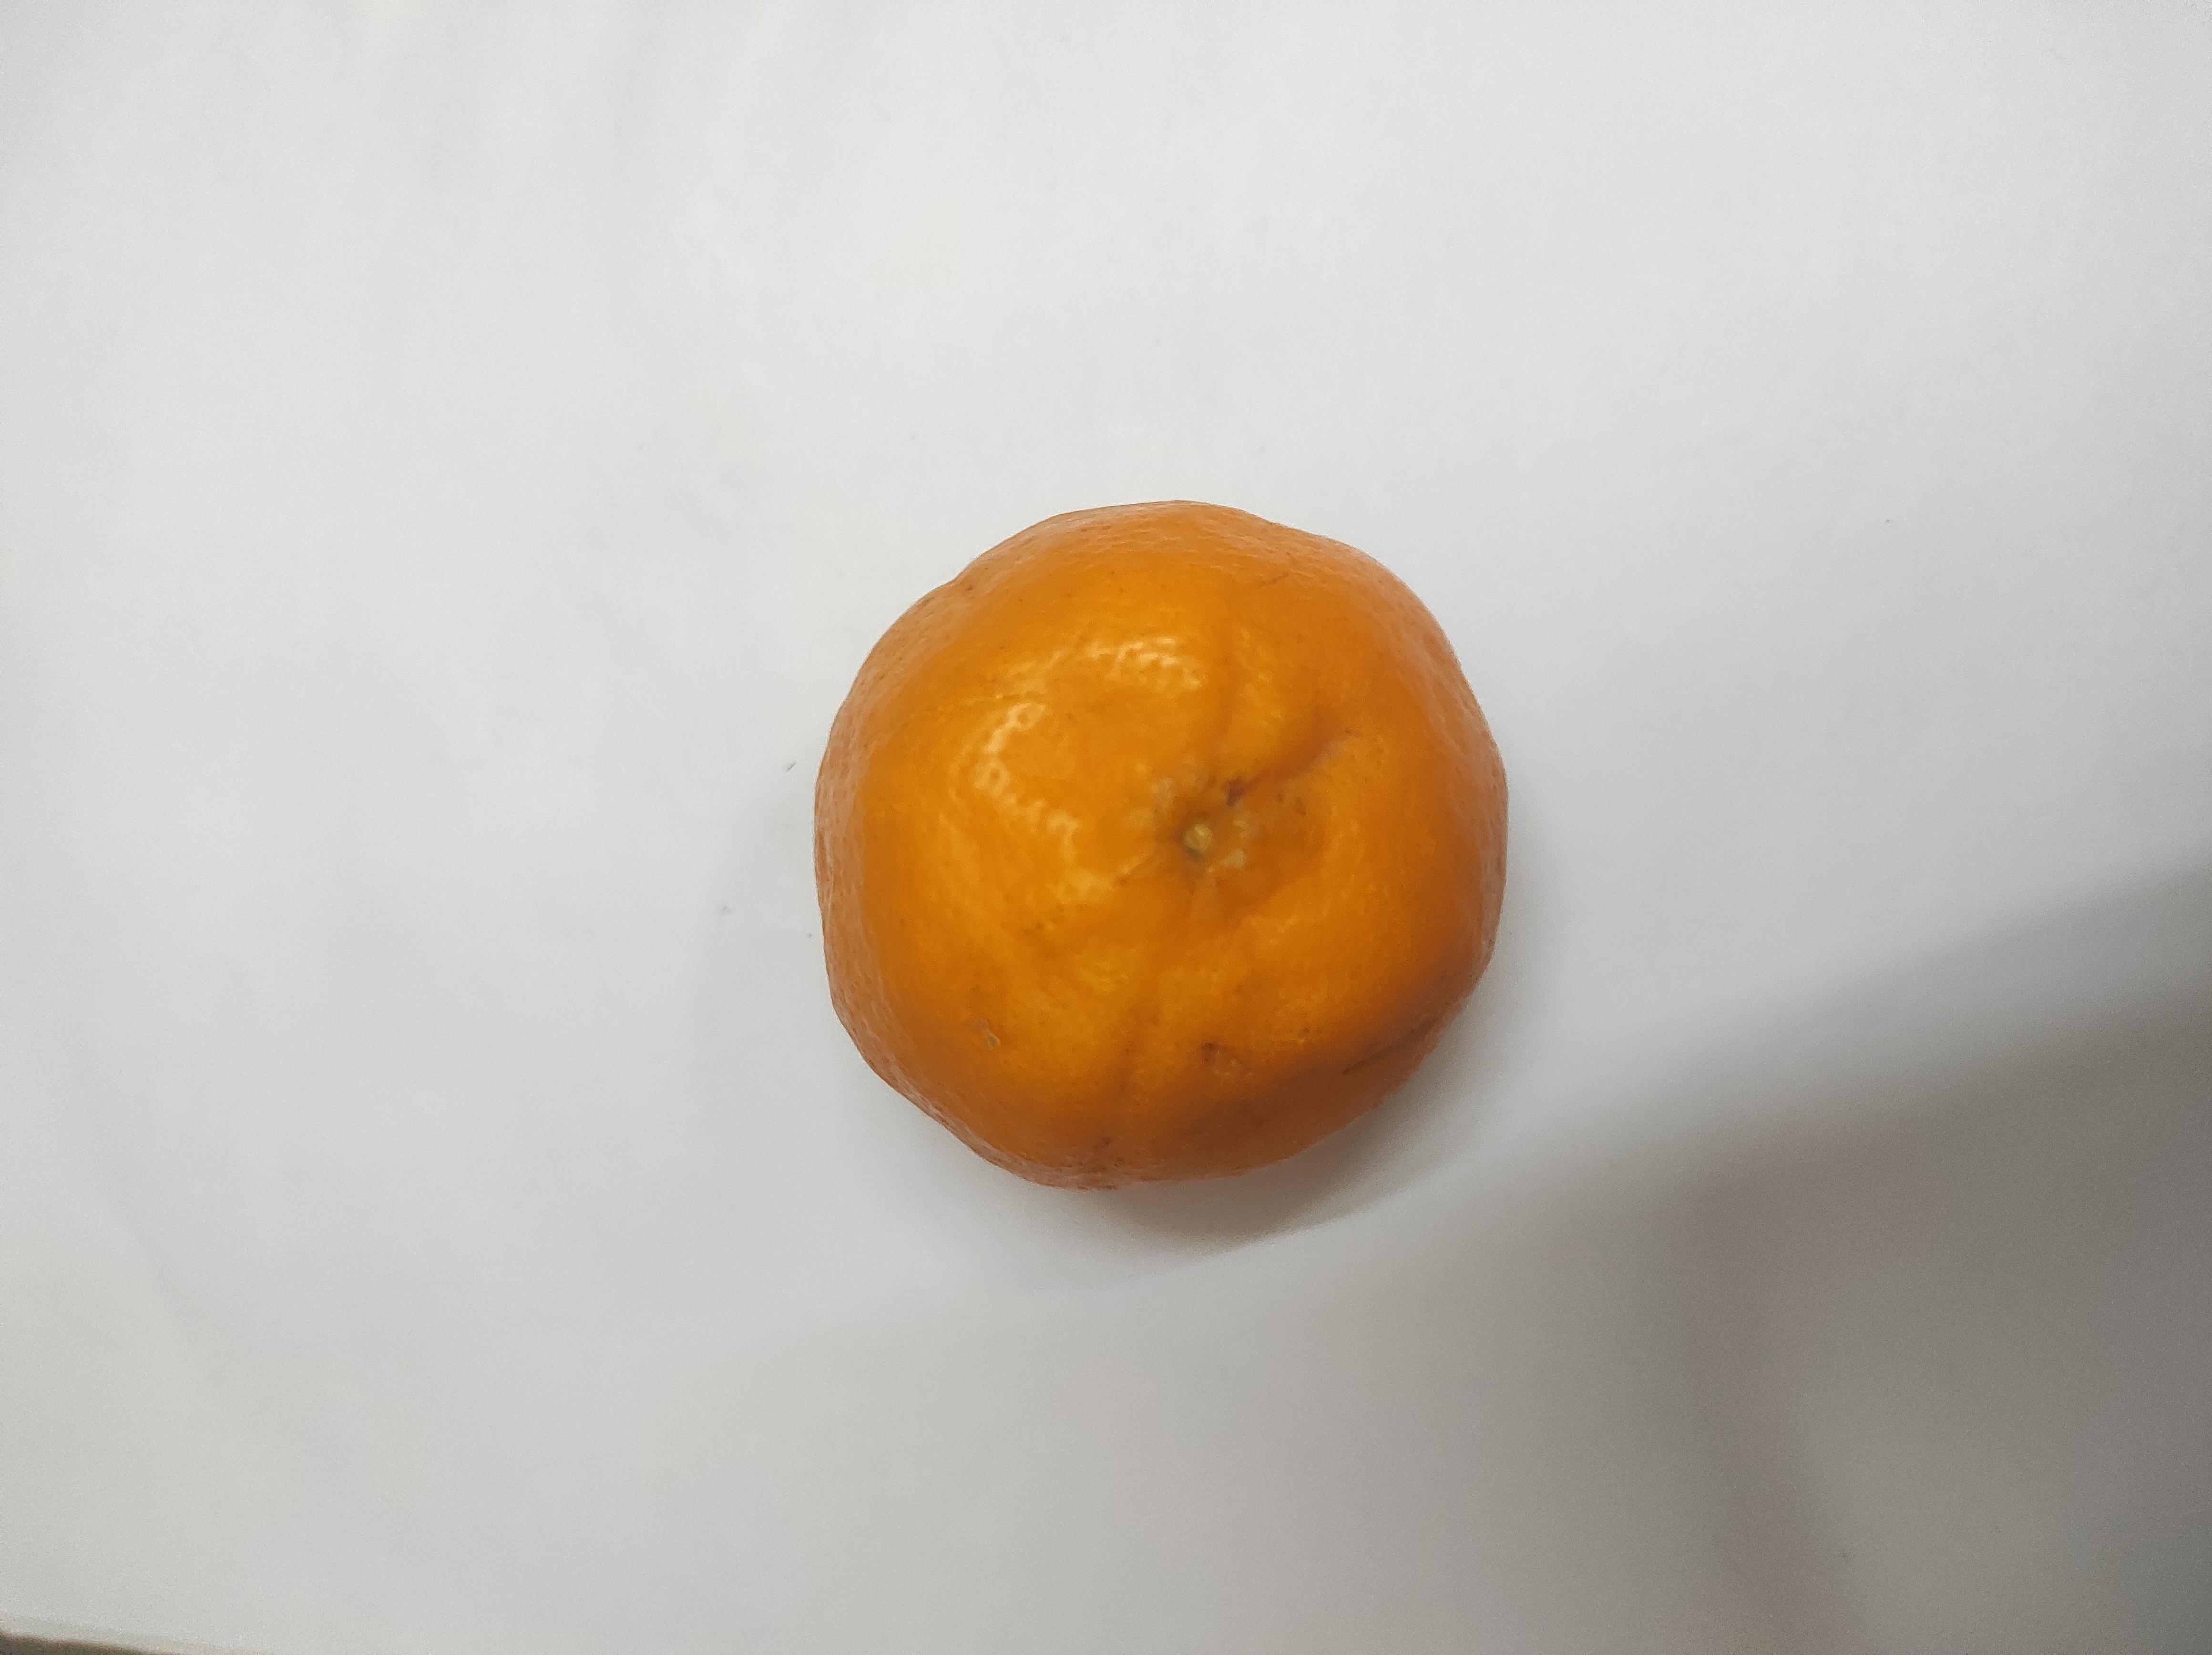Ripe: (805, 506, 1511, 1187)
